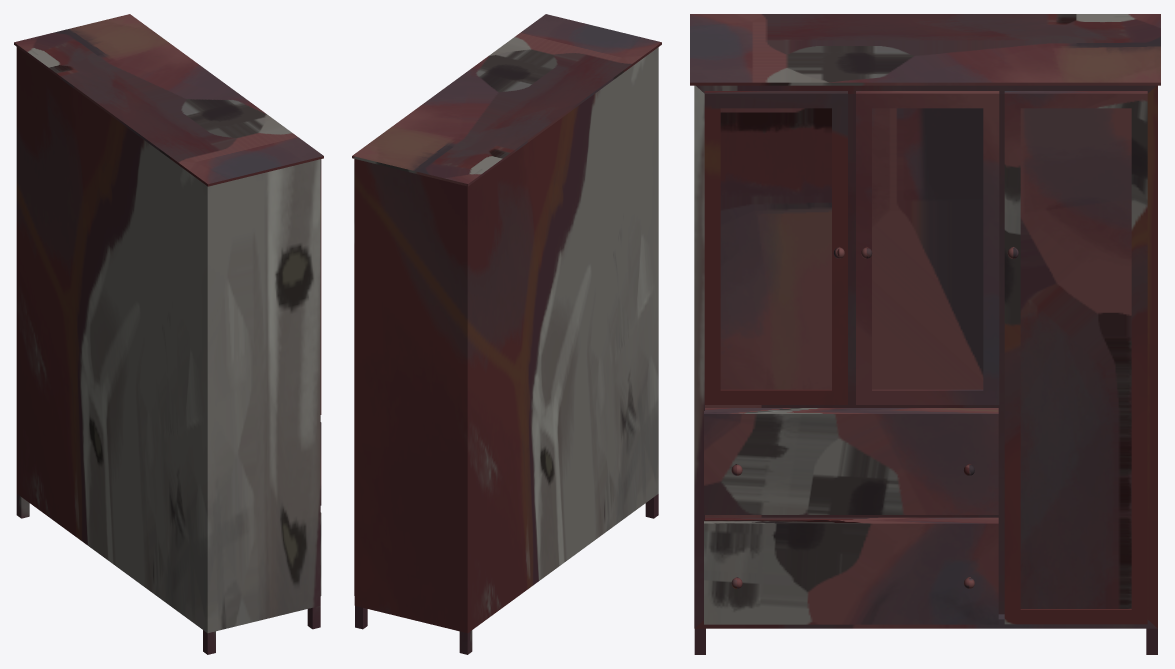
Rendered from closet.fbx.
The picture shows the model from 3 angles, left to right: view 1: azimuth 30°, elevation 25°; view 2: azimuth 150°, elevation 25°; view 3: azimuth 270°, elevation 25°; orthographic projection. The views are drawn at different scales.
Visible parts, largest first — view 1: closet; view 2: closet; view 3: closet.
Part boxes in pixels (bbox=[...]): closet: bbox=[14, 14, 323, 654]; closet: bbox=[352, 14, 661, 654]; closet: bbox=[690, 14, 1160, 654].
Bounding box in the file's own units: 381 × 1320 × 982.
